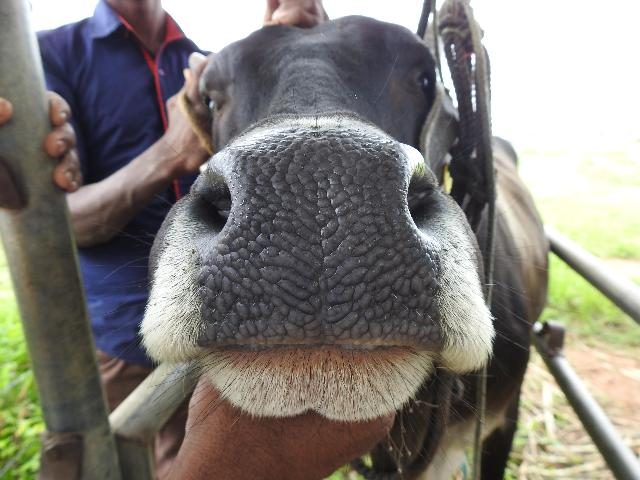Muzzle: (214, 142, 426, 346)
